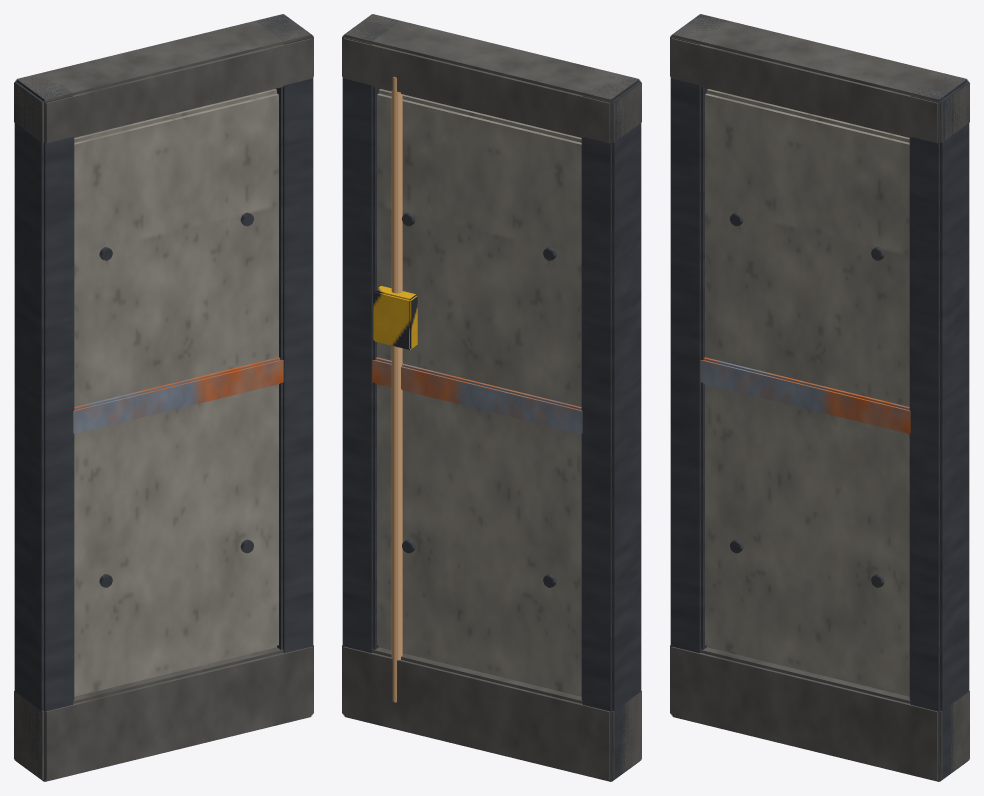
Rendered from wall_concrete.glb.
3 renders of one model, left to right at view 1: azimuth 30°, elevation 25°; view 2: azimuth 150°, elevation 25°; view 3: azimuth 330°, elevation 25°, orthographic.
Parts seen in each view (by area): view 1: wall_concrete; view 2: wall_concrete; view 3: wall_concrete.
Boxes of the visible parts, x1=… form: wall_concrete: x1=14, y1=14, x2=313, y2=781; wall_concrete: x1=342, y1=14, x2=641, y2=781; wall_concrete: x1=670, y1=14, x2=969, y2=781.
Bounding box in the file's own units: 1 × 2.4 × 0.22.
6 materials, 5 textured.
